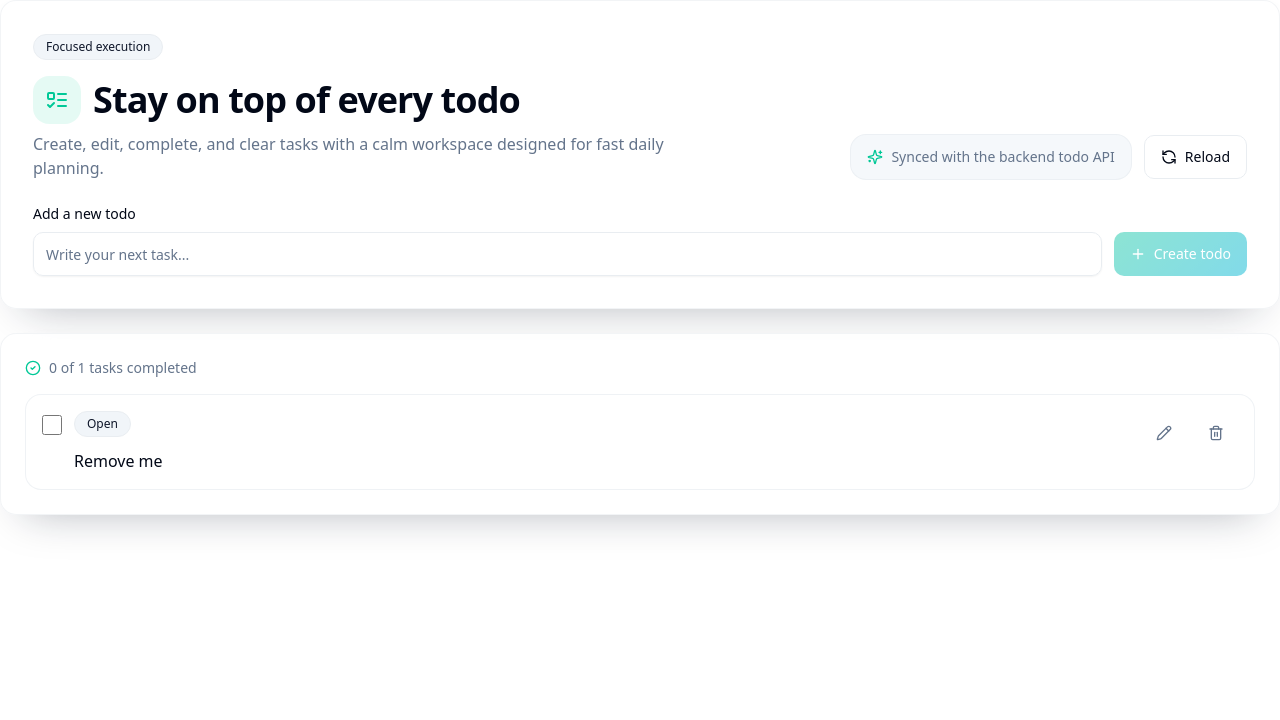
Test: TodoPage › deletes a todo after confirming the delete flow
What coordinates should you click on to do the following:
click the button named "delete remove me"
I would click on:
 (1216, 433)
Its box is [1194,411,1238,455].
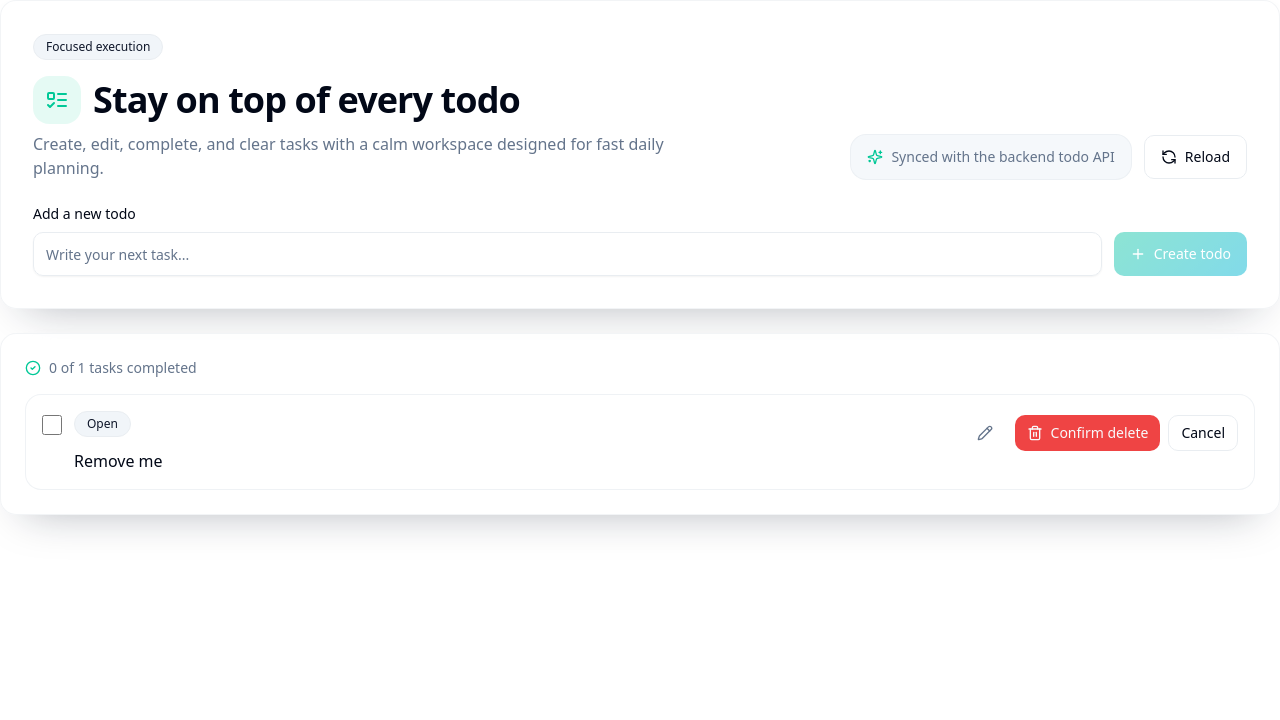
What coordinates should you click on to do the following:
click the button "Confirm delete"
I would click on:
 (1087, 433)
Its box is [1014,415,1160,451].
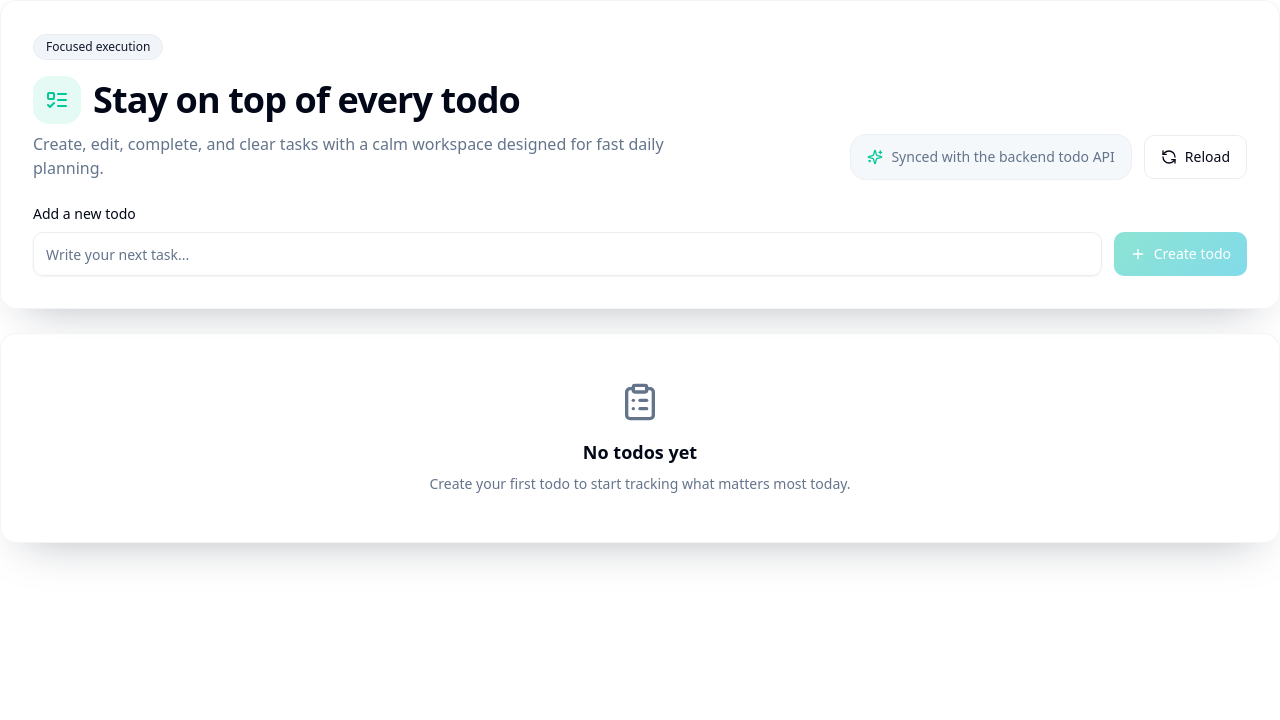
Now the heading "No todos yet" is shown, box [583,440,697,464]
